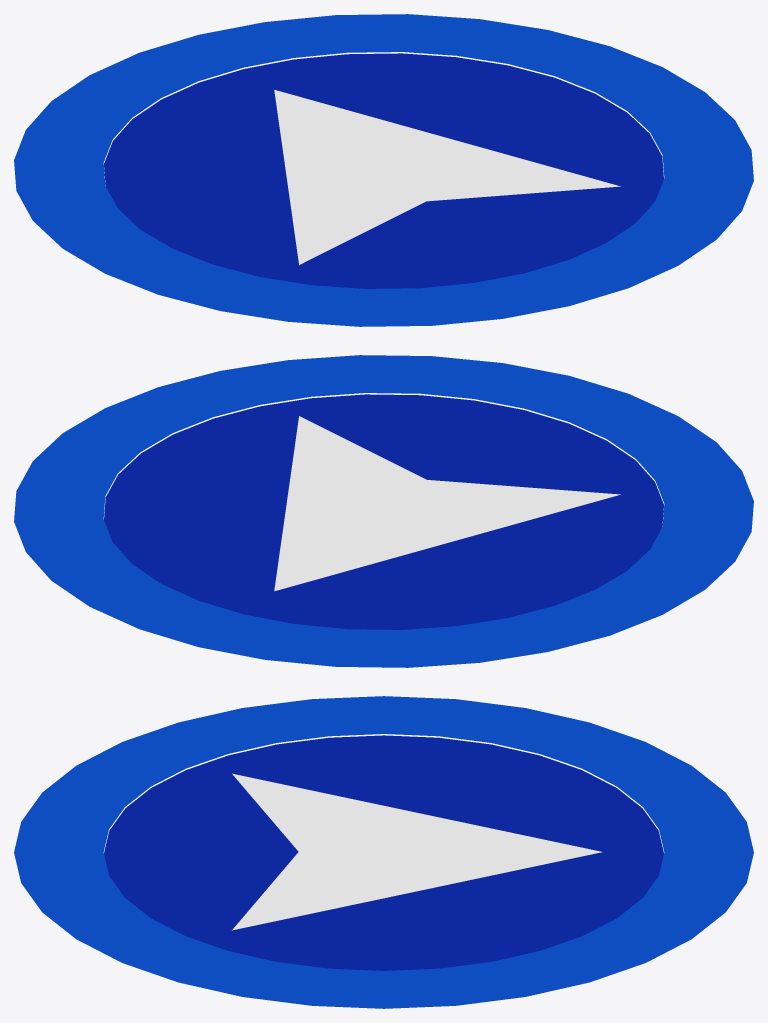
The picture shows the model from 3 angles, top to bottom: view 1: azimuth 30°, elevation 25°; view 2: azimuth 150°, elevation 25°; view 3: azimuth 270°, elevation 25°; orthographic projection.
Visible parts, largest first — view 1: cercleInter, cercleExter, fleche; view 2: cercleInter, cercleExter, fleche; view 3: cercleInter, cercleExter, fleche.
Part boxes in pixels (box(x1,y1,x2,y2)): cercleInter: box(104, 53, 663, 288); cercleExter: box(14, 14, 753, 326); fleche: box(274, 90, 620, 264); cercleInter: box(104, 394, 663, 629); cercleExter: box(14, 355, 753, 667); fleche: box(274, 416, 620, 591); cercleInter: box(104, 735, 663, 970); cercleExter: box(14, 696, 753, 1008); fleche: box(232, 773, 602, 930).
Bounding box in the file's own units: 0.5767 × 0.0043 × 0.5767.
